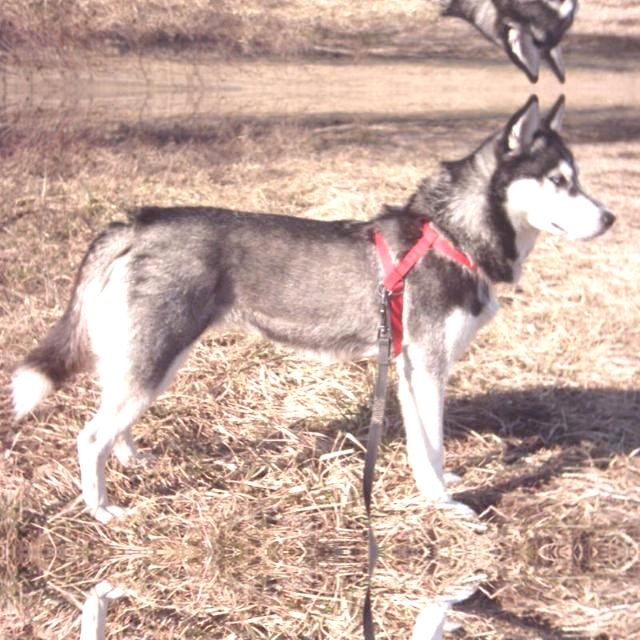dog: (46, 115, 595, 527), (46, 575, 595, 640), (46, 0, 595, 61)
